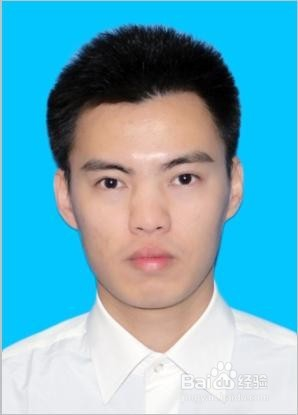unmask: (72, 116, 231, 298)
